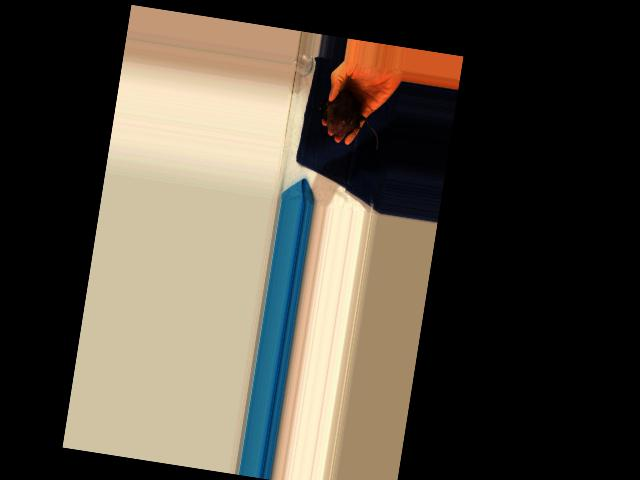beet: (314, 87, 385, 151)
